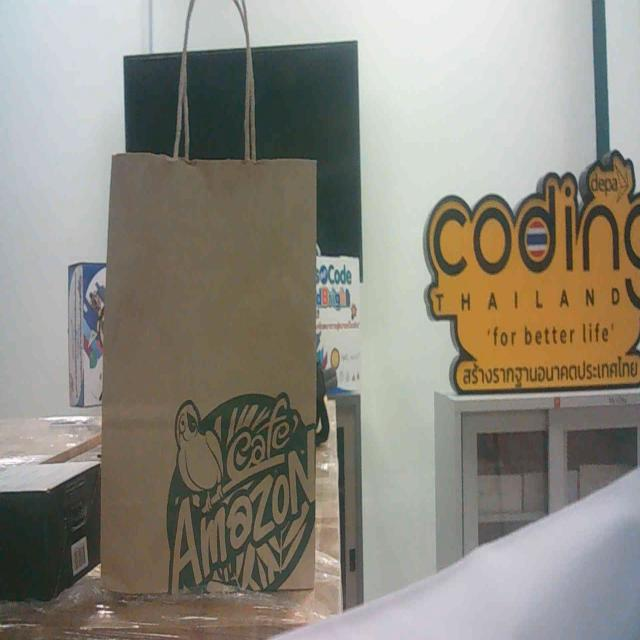bag: (104, 129, 330, 640)
